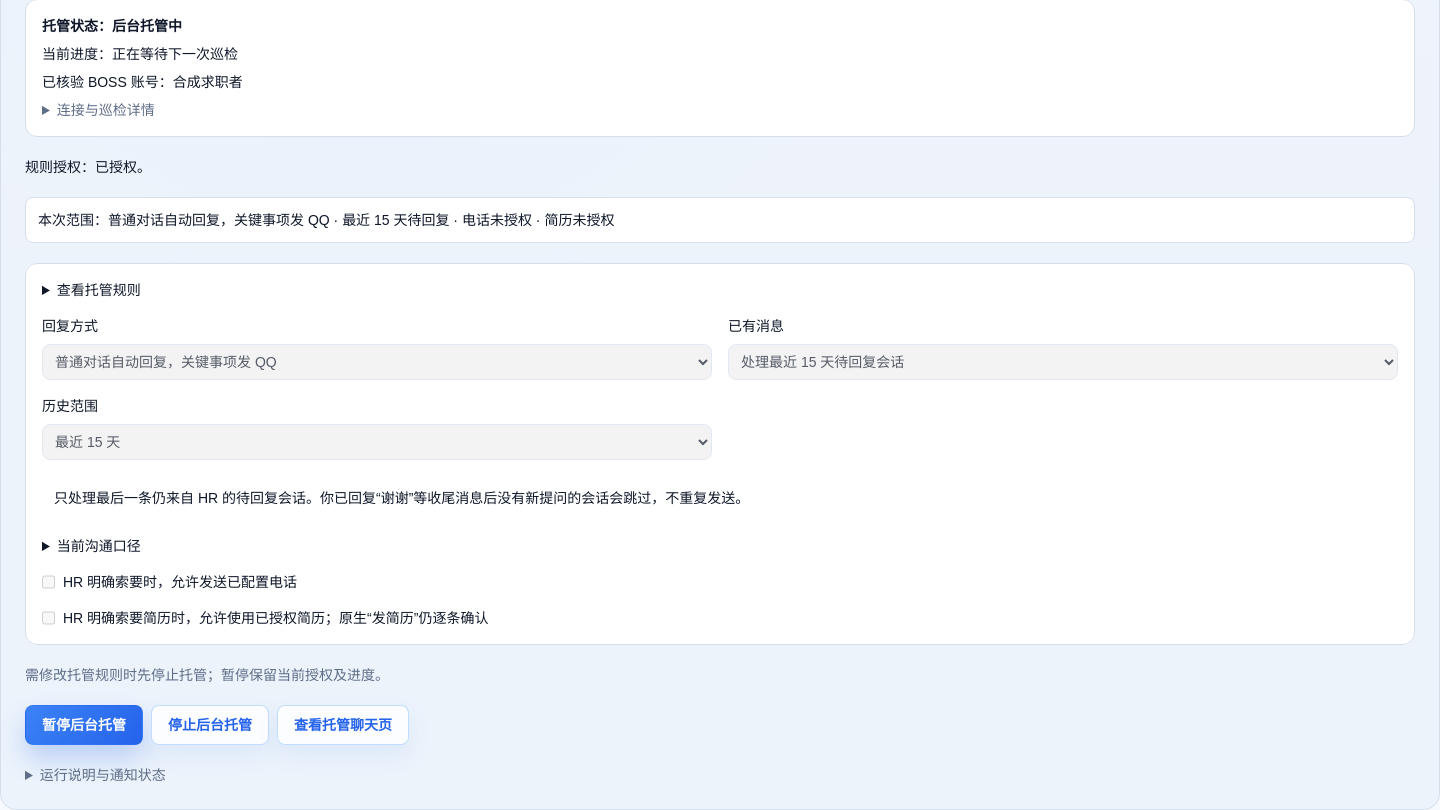
Test: shows actual account and scan status and pauses without repeating authorization
(page scrolled)
Check: the text "托管状态：后台托管中" is shown, box [42,18,182,34]
Check: the text "已核验 BOSS 账号：合成求职者" is shown, box [42,74,243,90]
Click the button "暂停后台托管". click: (84, 725)
box: [25,705,143,745]
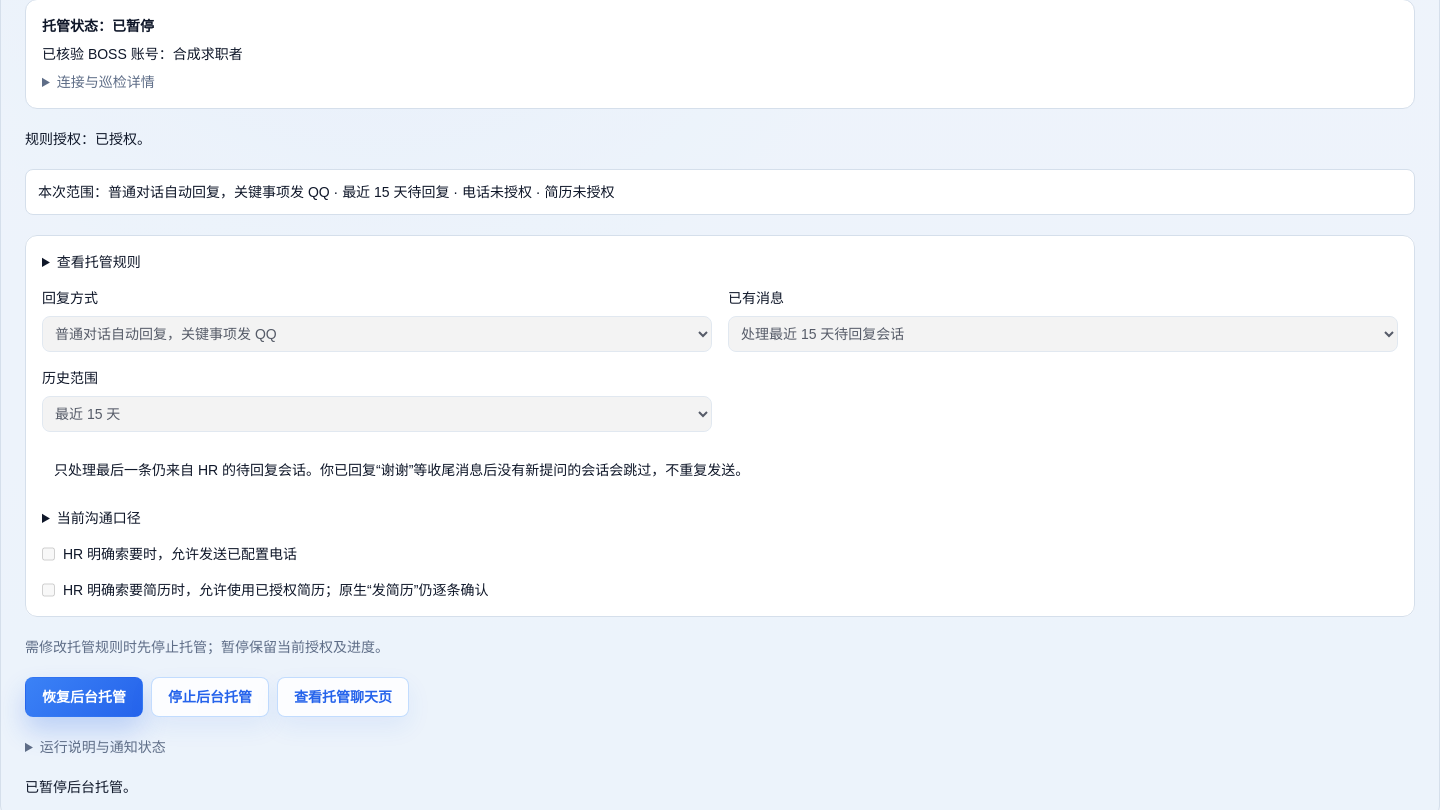
Check: the text "托管状态：已暂停" is shown, box [42,18,154,34]
